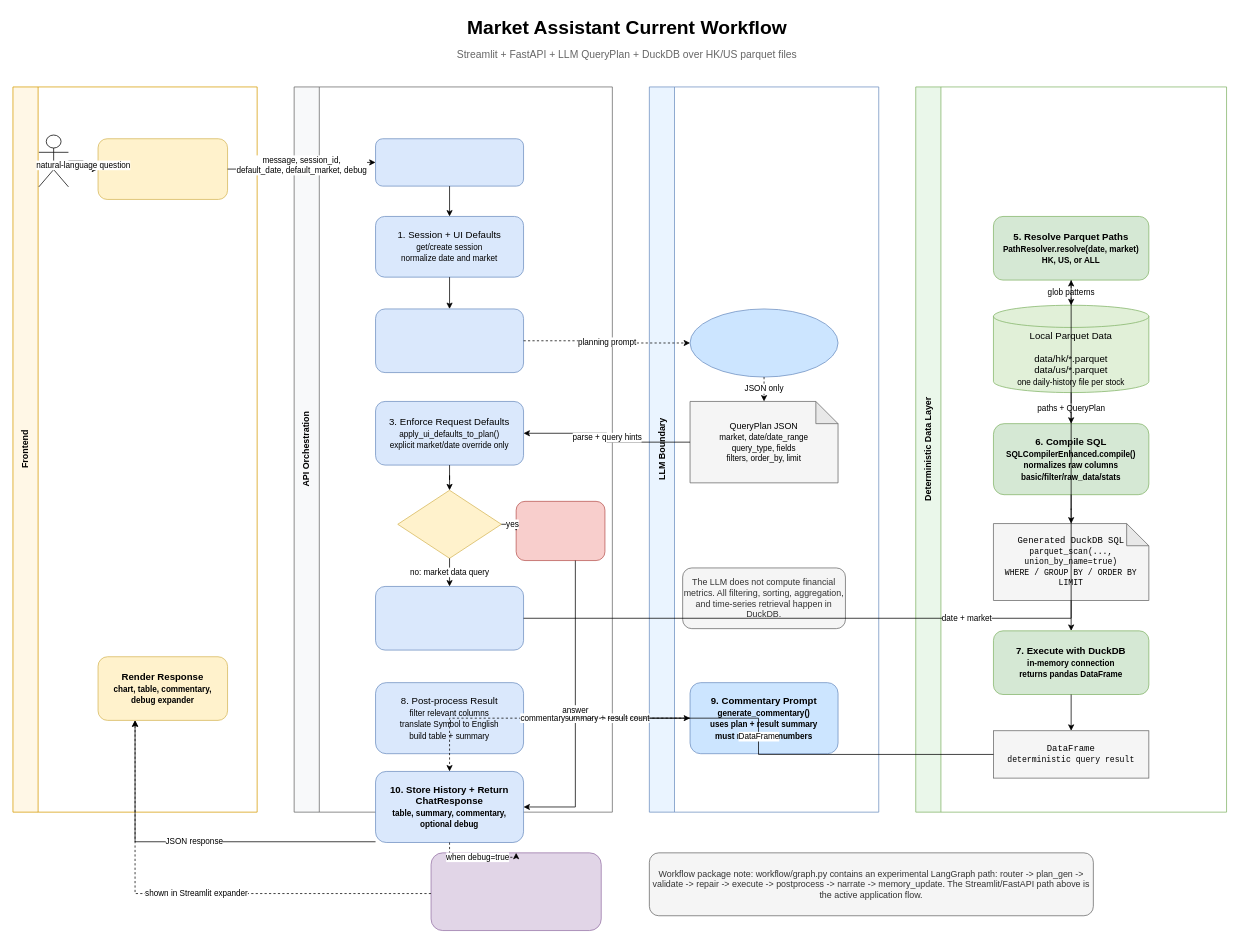
This 1240x944 diagram has some shape labels left out. Each missing label, with the centre of its shape:
2. Generate QueryPlan LLMQueryPlanner.generate_plan() recent history context: the point at 449,340
4. Validate Plan field/operator/schema checks infer query_type if missing: the point at 449,618
Debug Mode Payload QueryPlan JSON SQL parquet paths validation warnings: the point at 515,891
Direct Answer no DuckDB query append history: the point at 560,531
OpenAI-compatible Chat Completion intent planning and narration only: the point at 763,342
POST /chat ChatRequest: the point at 449,162
query_type is chat/invalid?: the point at 449,524
Streamlit UI app/ui_streamlit.py chat input, defaults, debug toggle: the point at 162,168
User: the point at 53,160
